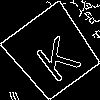K: (27, 26, 83, 84)
